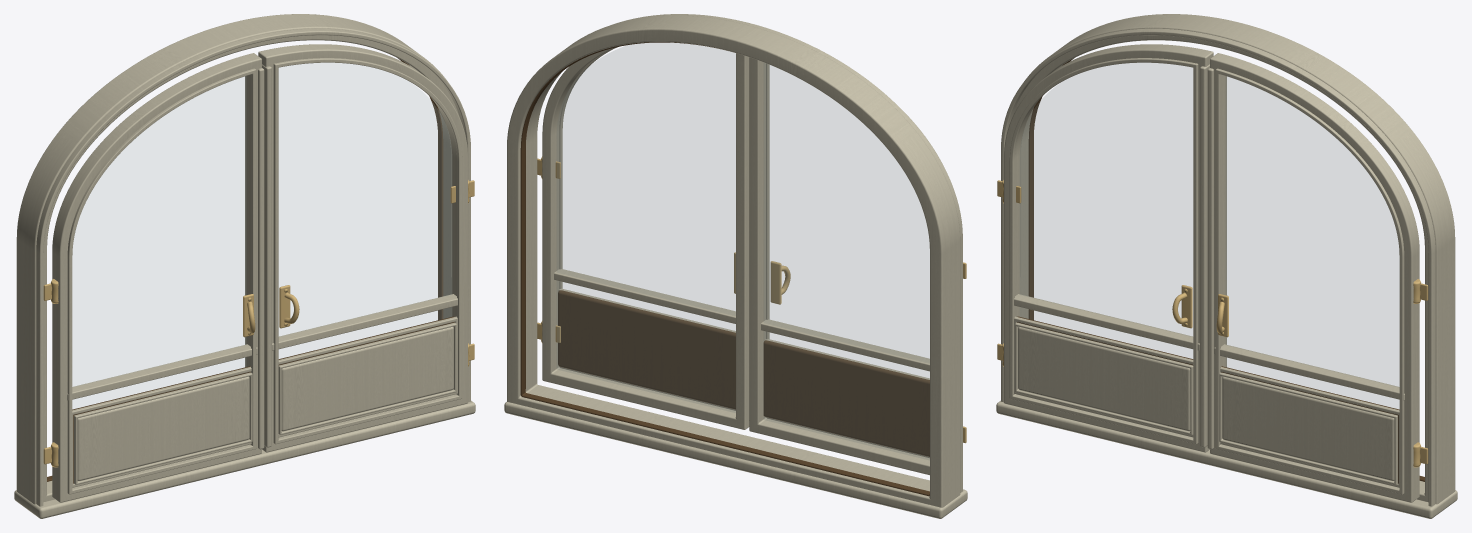
The model's file is back-room-01.glb.
The picture shows the model from 3 angles, left to right: view 1: azimuth 30°, elevation 25°; view 2: azimuth 150°, elevation 25°; view 3: azimuth 330°, elevation 25°; orthographic projection.
Parts seen in each view (by area): view 1: hinge_left__Joinery_clear_glass, hinge_right__Joinery_clear_glass, hinge_left__Joinery_sage_cream, hinge_right__Joinery_sage_cream, frame__Joinery_sage_cream, frame__Joinery_recessed_walnut, hinge_left__Joinery_brass_fittings, hinge_right__Joinery_brass_fittings, hinge_left__Joinery_recessed_walnut; view 2: hinge_right__Joinery_clear_glass, hinge_left__Joinery_clear_glass, frame__Joinery_sage_cream, hinge_right__Joinery_sage_cream, hinge_right__Joinery_recessed_walnut, hinge_left__Joinery_sage_cream, hinge_left__Joinery_recessed_walnut, frame__Joinery_recessed_walnut, hinge_right__Joinery_brass_fittings; view 3: hinge_right__Joinery_clear_glass, hinge_left__Joinery_clear_glass, hinge_right__Joinery_sage_cream, hinge_left__Joinery_sage_cream, frame__Joinery_sage_cream, frame__Joinery_recessed_walnut, hinge_right__Joinery_brass_fittings, hinge_left__Joinery_brass_fittings, hinge_right__Joinery_recessed_walnut.
Boxes of the visible parts, x1=… form: hinge_left__Joinery_clear_glass: x1=72, y1=76, x2=245, y2=408; hinge_right__Joinery_clear_glass: x1=279, y1=63, x2=451, y2=358; hinge_left__Joinery_sage_cream: x1=52, y1=53, x2=271, y2=502; hinge_right__Joinery_sage_cream: x1=258, y1=44, x2=467, y2=452; frame__Joinery_sage_cream: x1=14, y1=14, x2=475, y2=518; frame__Joinery_recessed_walnut: x1=47, y1=58, x2=443, y2=481; hinge_left__Joinery_brass_fittings: x1=51, y1=279, x2=299, y2=467; hinge_right__Joinery_brass_fittings: x1=243, y1=180, x2=469, y2=366; hinge_left__Joinery_recessed_walnut: x1=72, y1=366, x2=250, y2=483; hinge_right__Joinery_clear_glass: x1=557, y1=43, x2=735, y2=412; hinge_left__Joinery_clear_glass: x1=764, y1=63, x2=929, y2=459; frame__Joinery_sage_cream: x1=504, y1=14, x2=967, y2=518; hinge_right__Joinery_sage_cream: x1=542, y1=47, x2=749, y2=429; hinge_right__Joinery_recessed_walnut: x1=558, y1=290, x2=735, y2=409; hinge_left__Joinery_sage_cream: x1=749, y1=57, x2=940, y2=475; hinge_left__Joinery_recessed_walnut: x1=763, y1=340, x2=929, y2=456; frame__Joinery_recessed_walnut: x1=520, y1=42, x2=929, y2=496; hinge_right__Joinery_brass_fittings: x1=541, y1=156, x2=790, y2=342; hinge_right__Joinery_clear_glass: x1=1226, y1=76, x2=1399, y2=408; hinge_left__Joinery_clear_glass: x1=1020, y1=63, x2=1192, y2=358; hinge_right__Joinery_sage_cream: x1=1200, y1=53, x2=1419, y2=502; hinge_left__Joinery_sage_cream: x1=1004, y1=44, x2=1213, y2=452; frame__Joinery_sage_cream: x1=996, y1=14, x2=1457, y2=518; frame__Joinery_recessed_walnut: x1=1028, y1=58, x2=1424, y2=481; hinge_right__Joinery_brass_fittings: x1=1172, y1=279, x2=1420, y2=467; hinge_left__Joinery_brass_fittings: x1=1002, y1=180, x2=1228, y2=366; hinge_right__Joinery_recessed_walnut: x1=1221, y1=366, x2=1399, y2=483.
Bounding box in the file's own units: 2.88 × 2.69 × 0.5079.
Materials: 5 (2 with a texture image).
